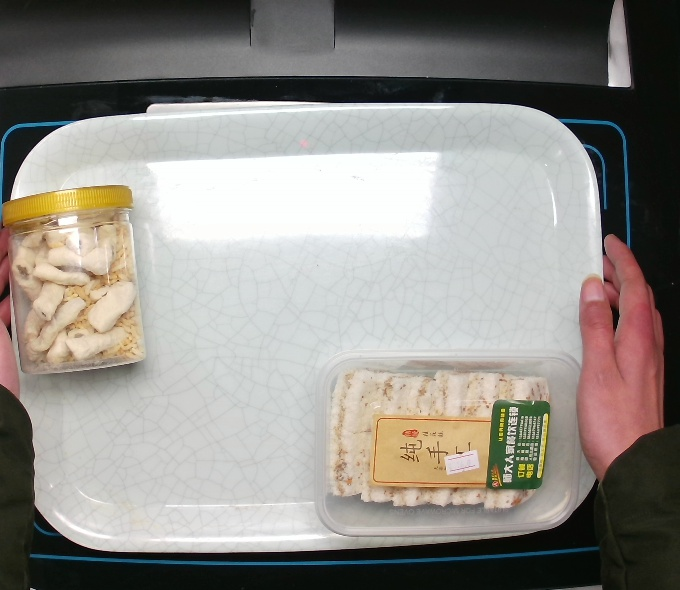wcq-GuiHuaGao: (311, 344, 588, 541)
wcq-MaiYaTang: (1, 174, 153, 379)
